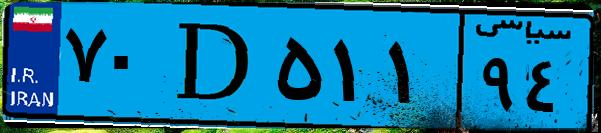0: (110, 28, 158, 98)
1: (385, 28, 445, 110), (330, 28, 385, 110)
4: (525, 38, 570, 115)
5: (270, 28, 330, 110)
7: (57, 26, 110, 100)
9: (475, 38, 525, 113)
D: (158, 12, 270, 120)
